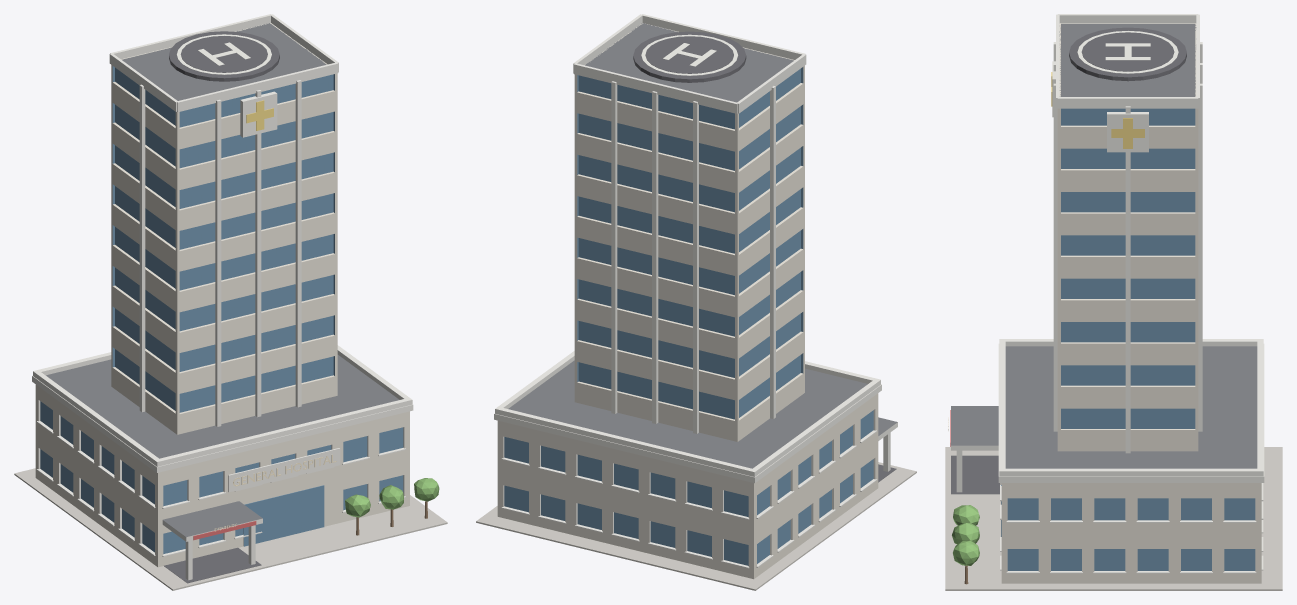
File: hospital.glb
3 views of the same model, side by side, from view 1: azimuth 30°, elevation 25°; view 2: azimuth 150°, elevation 25°; view 3: azimuth 270°, elevation 25° (orthographic). The views are drawn at different scales.
Parts seen in each view (by area): view 1: hospital; view 2: hospital; view 3: hospital.
Boxes of the visible parts, bbox=[...] form: hospital: bbox=[14, 14, 447, 590]; hospital: bbox=[476, 14, 916, 590]; hospital: bbox=[945, 14, 1282, 590].
Size of the model in its own units: 24 by 36.76 by 24.
